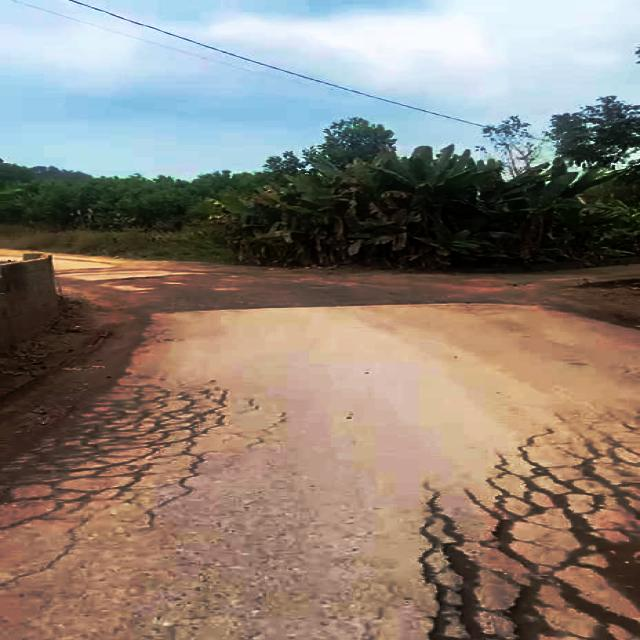pothole: (411, 460, 640, 640)
